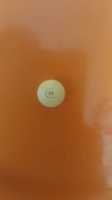Nurofen: (36, 78, 68, 109)
